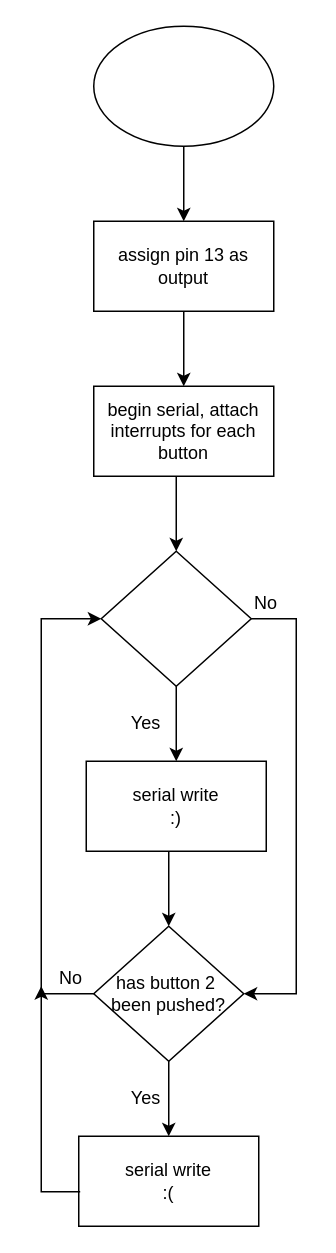
The diagram is 336 pixels wide and 1253 high, and some of its shapes have lost their labels. The box of each missing label's shape, as (x1, y1, x2, y2) in pixels:
has button 1 been pushed?: (100, 550, 251, 686)
Start: (92, 25, 274, 146)
